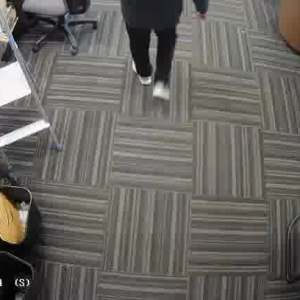person: (123, 0, 193, 95)
